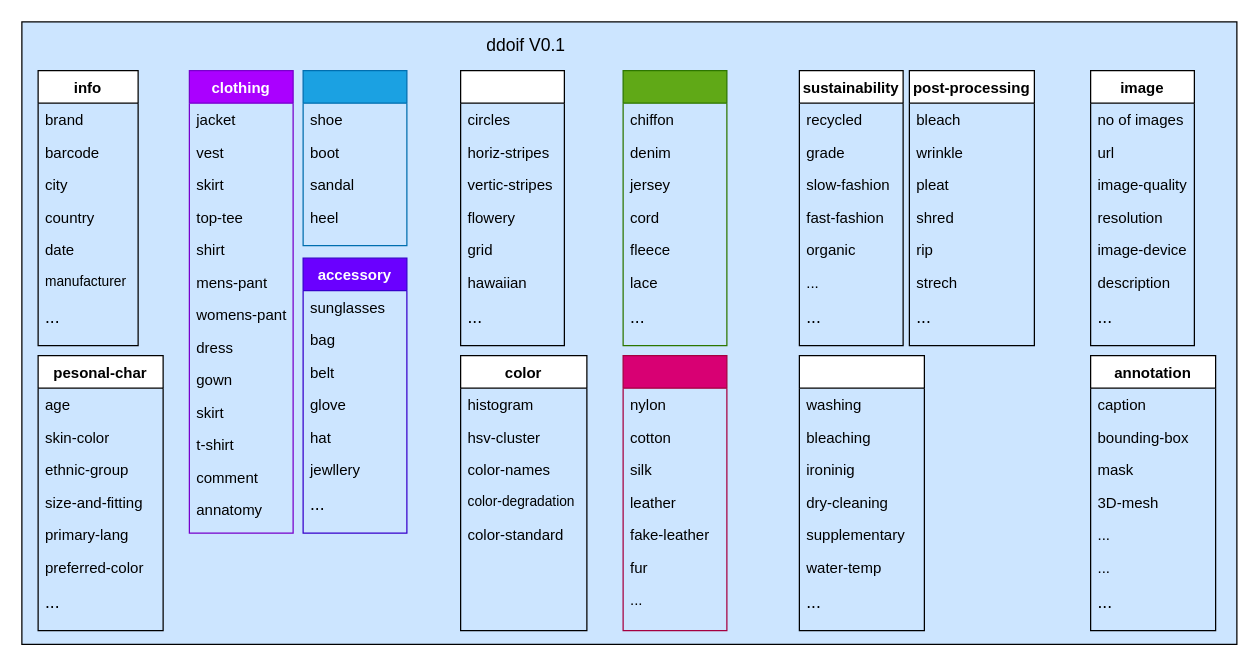
The diagram is 1259 pixels wide and 666 high, and some of its shapes have lost their labels. Here are the shapes that lost their labels. From the top down, the box of each, then its label:
(302, 69, 407, 246): footwear
(459, 69, 564, 346): pattern
(622, 69, 727, 346): fabric
(622, 354, 727, 631): material
(798, 354, 924, 631): care
